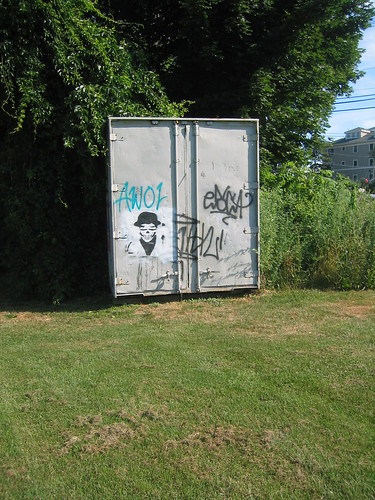building: (313, 129, 375, 187)
door: (113, 124, 255, 285)
graffiti: (124, 210, 233, 270), (199, 183, 255, 230), (117, 177, 171, 216)
grass: (10, 298, 375, 500)
vegetation: (1, 1, 107, 288), (269, 1, 362, 280)
